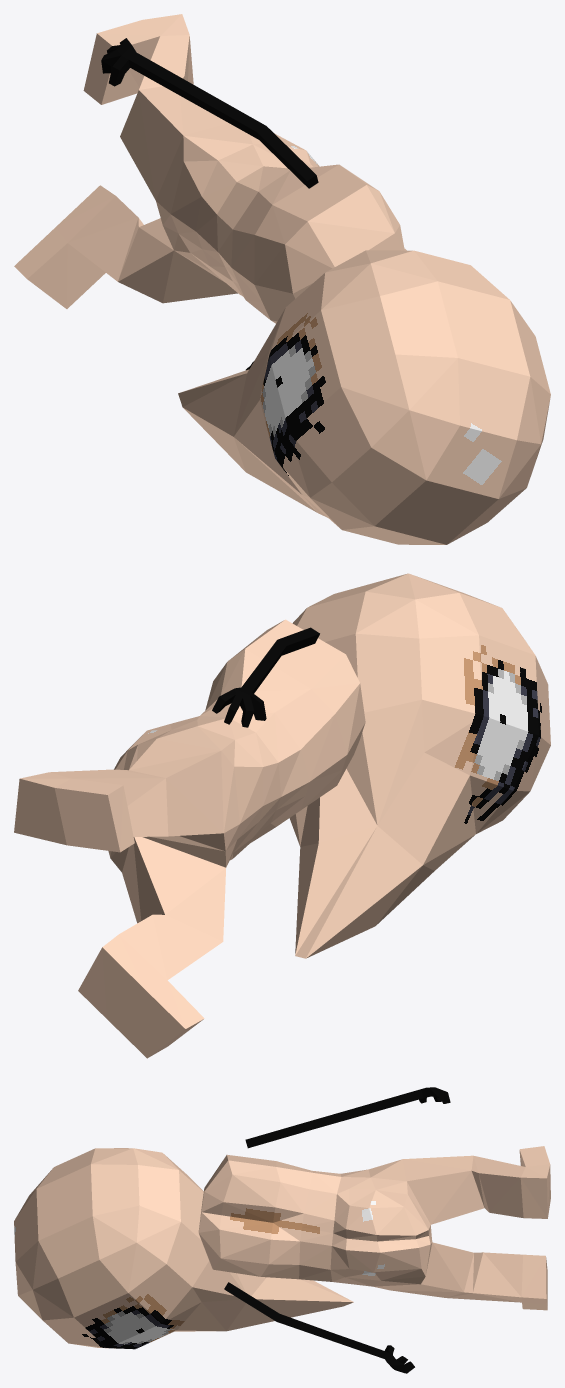
The model's file is impKing_special.obj.
The picture shows the model from 3 angles, top to bottom: view 1: azimuth 30°, elevation 25°; view 2: azimuth 150°, elevation 25°; view 3: azimuth 270°, elevation 25°; orthographic projection. The views are drawn at different scales.
Visible parts, largest first — view 1: Cube.018; view 2: Cube.018; view 3: Cube.018.
Boxes of the visible parts, x1,y1,x2,y2 form: Cube.018: (14, 14, 550, 544); Cube.018: (14, 573, 550, 1058); Cube.018: (14, 1087, 550, 1373).
Bounding box in the file's own units: 2.75 × 3.62 × 7.19.
1 material, 1 textured.
